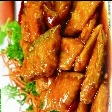hongshaodaiyu: (11, 0, 112, 112)
